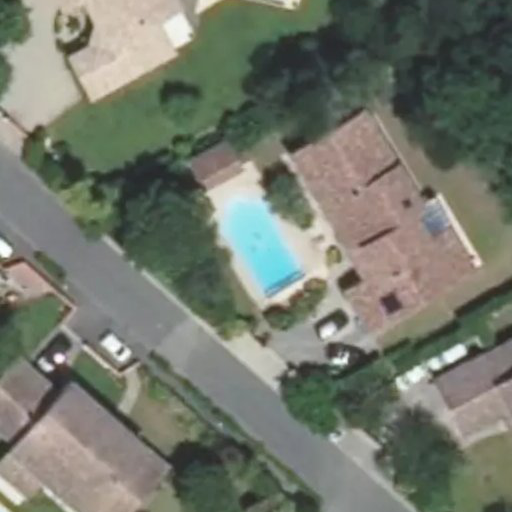pool: (206, 200, 298, 273)
